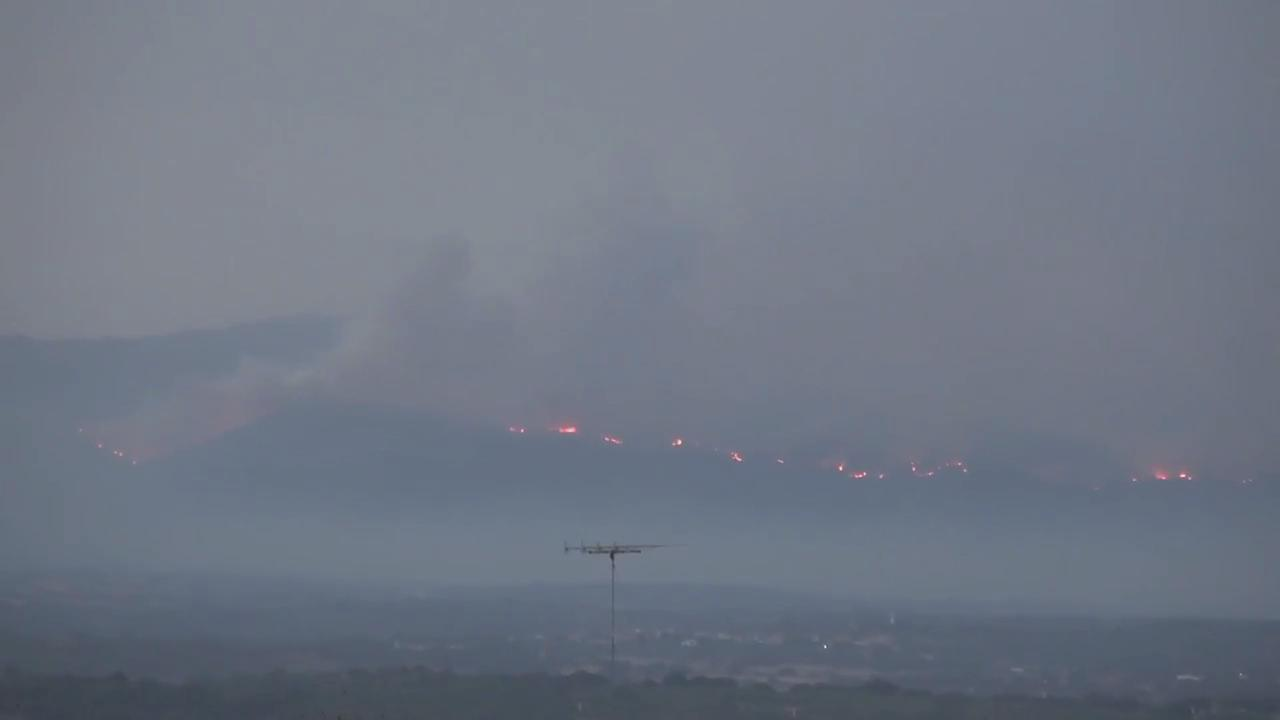fire: (553, 421, 578, 436), (1175, 469, 1195, 483), (599, 433, 619, 447), (727, 448, 744, 463), (852, 468, 869, 480), (1156, 472, 1170, 481), (836, 460, 846, 472), (669, 438, 684, 446)
